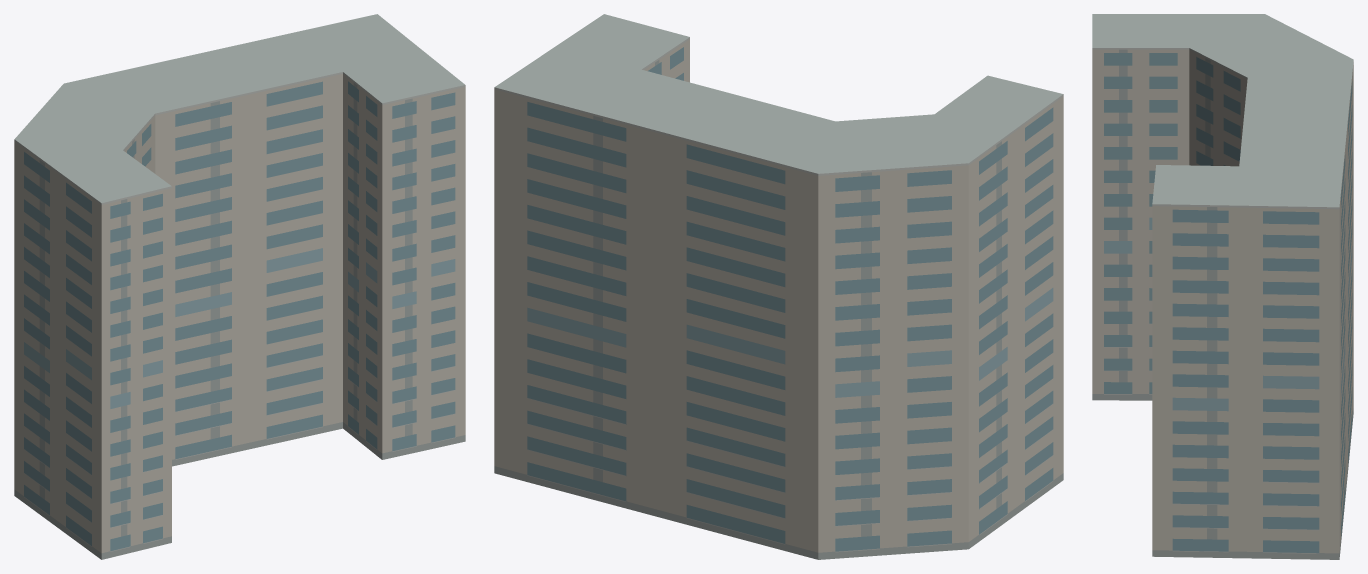
Rendered from residential-75d57eff-d7f4-42e6-aa9e-4183b6c33135.glb.
The picture shows the model from 3 angles, left to right: view 1: azimuth 30°, elevation 25°; view 2: azimuth 150°, elevation 25°; view 3: azimuth 270°, elevation 25°; orthographic projection. The views are drawn at different scales.
Parts seen in each view (by area): view 1: residential-75d57eff-d7f4-42e6-aa9e-4183b6c33135.tmp; view 2: residential-75d57eff-d7f4-42e6-aa9e-4183b6c33135.tmp; view 3: residential-75d57eff-d7f4-42e6-aa9e-4183b6c33135.tmp.
Part boxes in pixels (<box>): residential-75d57eff-d7f4-42e6-aa9e-4183b6c33135.tmp: <box>14,14,465,559</box>; residential-75d57eff-d7f4-42e6-aa9e-4183b6c33135.tmp: <box>494,14,1063,559</box>; residential-75d57eff-d7f4-42e6-aa9e-4183b6c33135.tmp: <box>1092,14,1353,559</box>.
Bounding box in the file's own units: 53.82 × 45.75 × 30.75.
